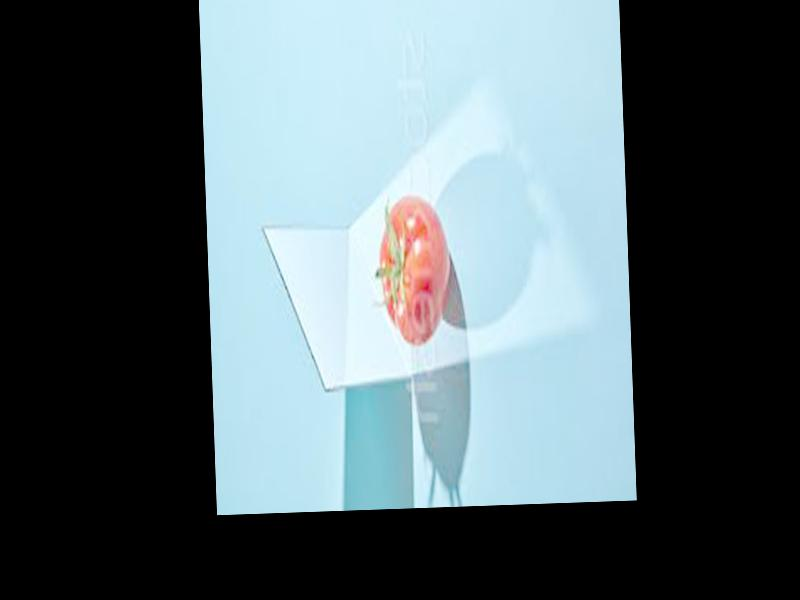Tomato: (377, 195, 452, 347)
